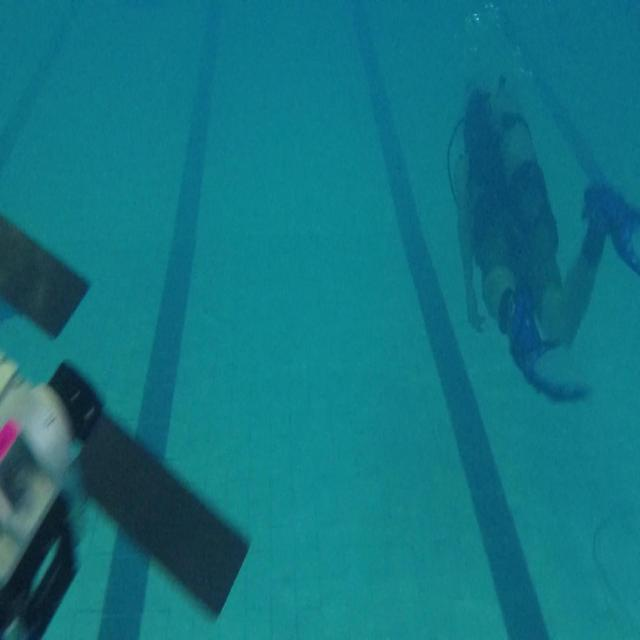human: (446, 82, 638, 404)
